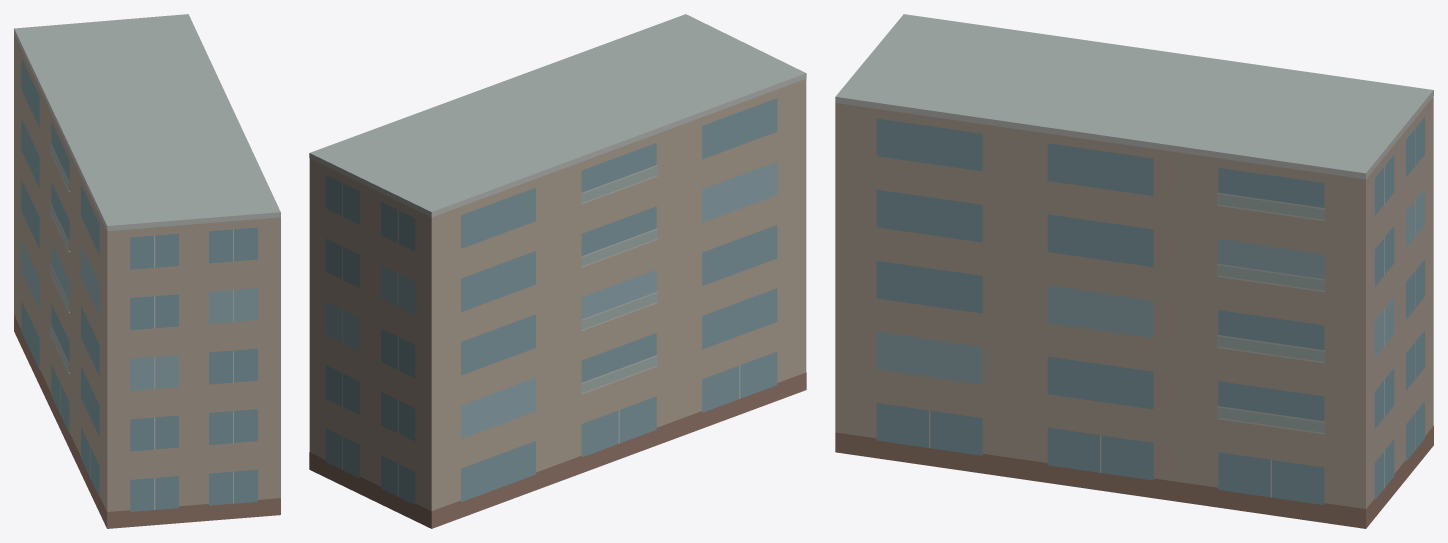
File: survey-upis-32942671.glb
3 renders of one model, left to right at view 1: azimuth 30°, elevation 25°; view 2: azimuth 150°, elevation 25°; view 3: azimuth 270°, elevation 25°, orthographic. The views are drawn at different scales.
Visible parts, largest first — view 1: survey-upis-32942671.tmp; view 2: survey-upis-32942671.tmp; view 3: survey-upis-32942671.tmp.
Part boxes in pixels (bbox=[...]): survey-upis-32942671.tmp: bbox=[14, 14, 280, 528]; survey-upis-32942671.tmp: bbox=[309, 14, 806, 528]; survey-upis-32942671.tmp: bbox=[835, 14, 1433, 528].
Size of the model in its own units: 13.76 by 14.3 by 21.83.
